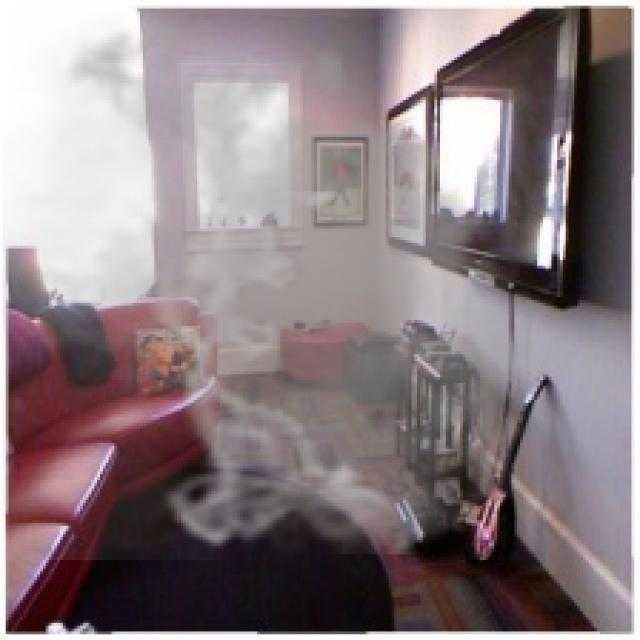Smoke: (3, 11, 563, 560)
